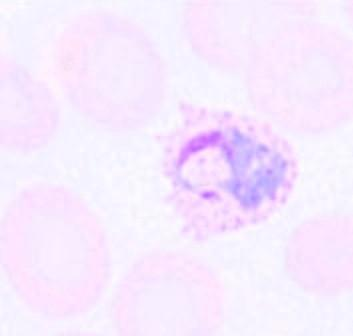Infected: (154, 98, 299, 241)
Uninfected: (0, 185, 110, 312), (52, 8, 165, 129), (246, 18, 353, 128), (184, 0, 310, 76), (110, 254, 223, 336), (284, 211, 353, 298)
